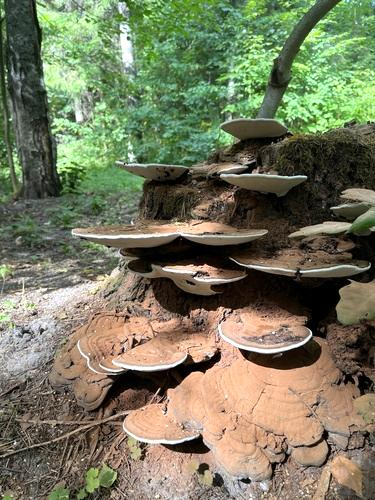Ganoderma - Fruit Body: (66, 215, 267, 248), (77, 326, 200, 376), (220, 309, 319, 356), (147, 259, 247, 286), (124, 406, 202, 440), (219, 168, 306, 195), (115, 159, 189, 186), (215, 117, 287, 143), (288, 219, 357, 240)
